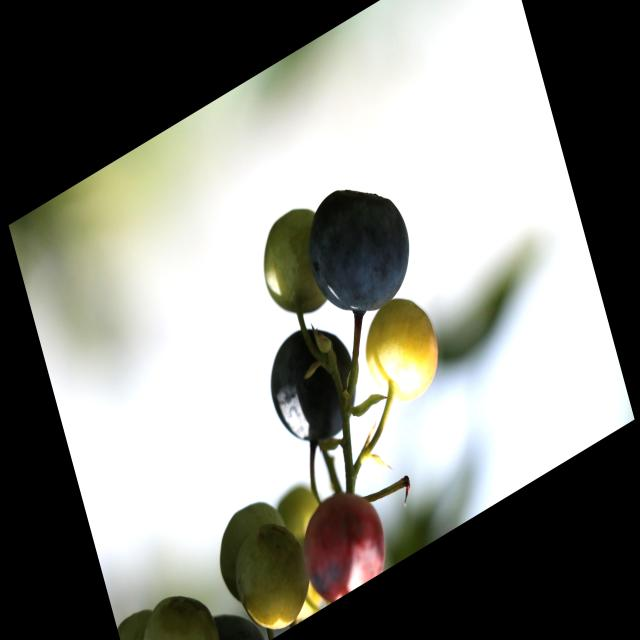blueberry: (293, 155, 425, 346), (256, 301, 370, 468)
blueberry-halfripe: (293, 472, 394, 610)
blueberry-unripe: (354, 278, 450, 422), (250, 196, 340, 333), (226, 516, 316, 640), (132, 572, 229, 640)
